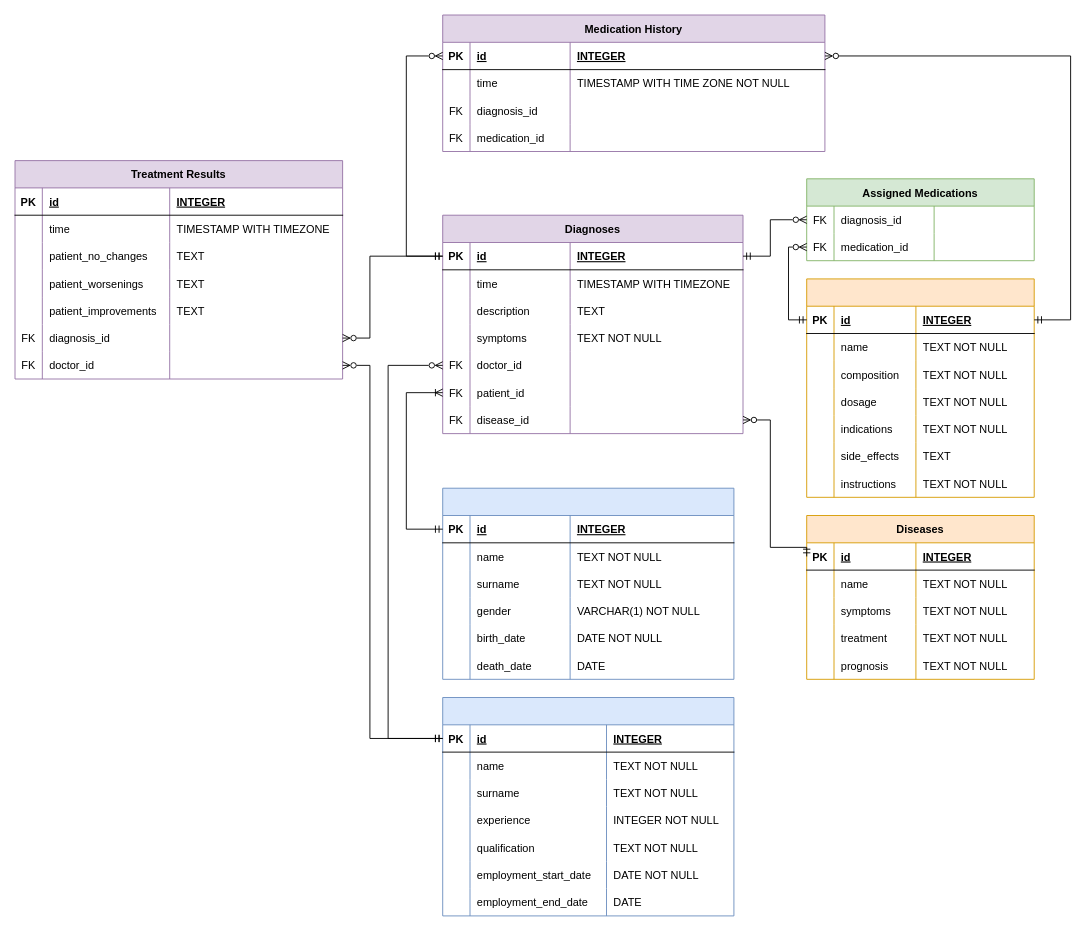
This 1086x931 diagram has some shape labels left out. The shapes that lost their labels are listed below. From the top down, each one's box as (x1, y1, x2, y2) in pixels, then its label:
(806, 278, 1034, 497): Medications
(442, 487, 734, 679): Patients
(442, 697, 734, 916): Doctors
